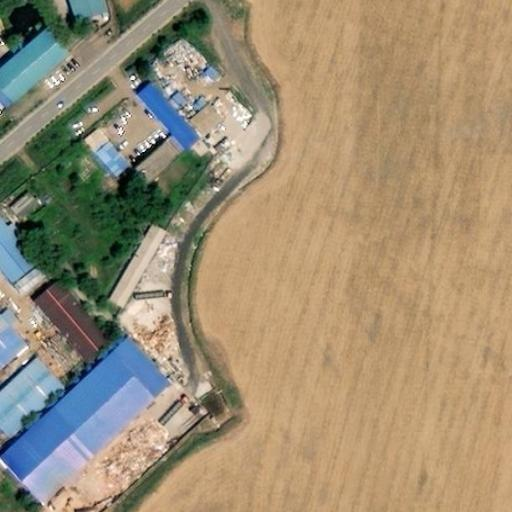building: (2, 346, 176, 512), (36, 291, 116, 376), (0, 31, 68, 115), (0, 369, 67, 447), (110, 236, 171, 319), (136, 95, 202, 168), (0, 228, 45, 304), (85, 143, 128, 189), (155, 391, 196, 431), (188, 119, 224, 154), (4, 182, 40, 217), (196, 57, 221, 83)
